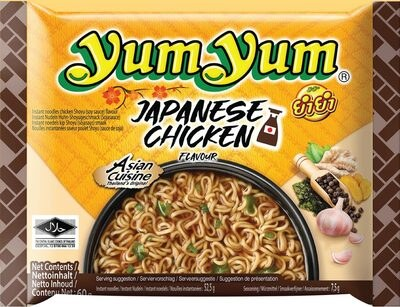Instant Nudeln, Japanese Chicken Flavor: (20, 15, 380, 292)
